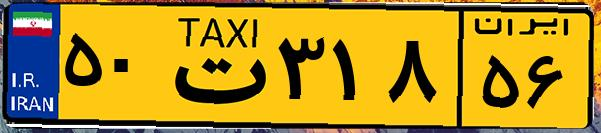0: (110, 28, 158, 98)
1: (330, 28, 385, 110)
3: (270, 28, 330, 110)
5: (57, 26, 110, 100), (475, 38, 525, 113)
6: (525, 38, 570, 115)
8: (385, 28, 445, 110)
ت: (158, 12, 270, 120)
